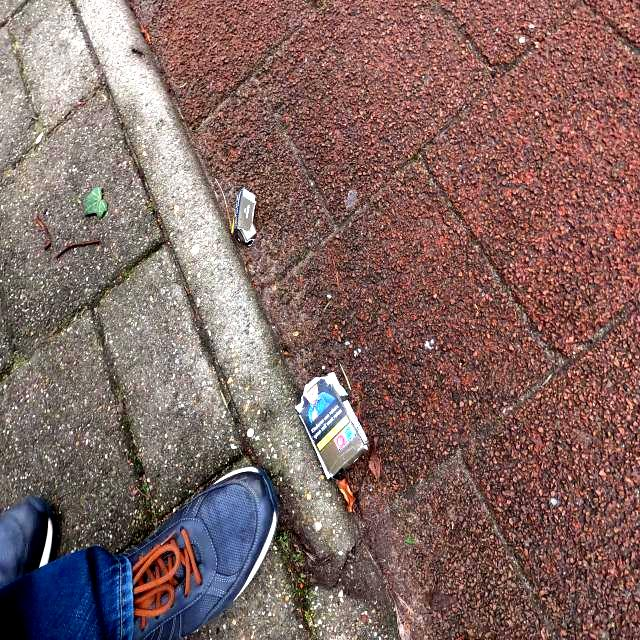Paper: (294, 370, 368, 480), (230, 187, 258, 247)
